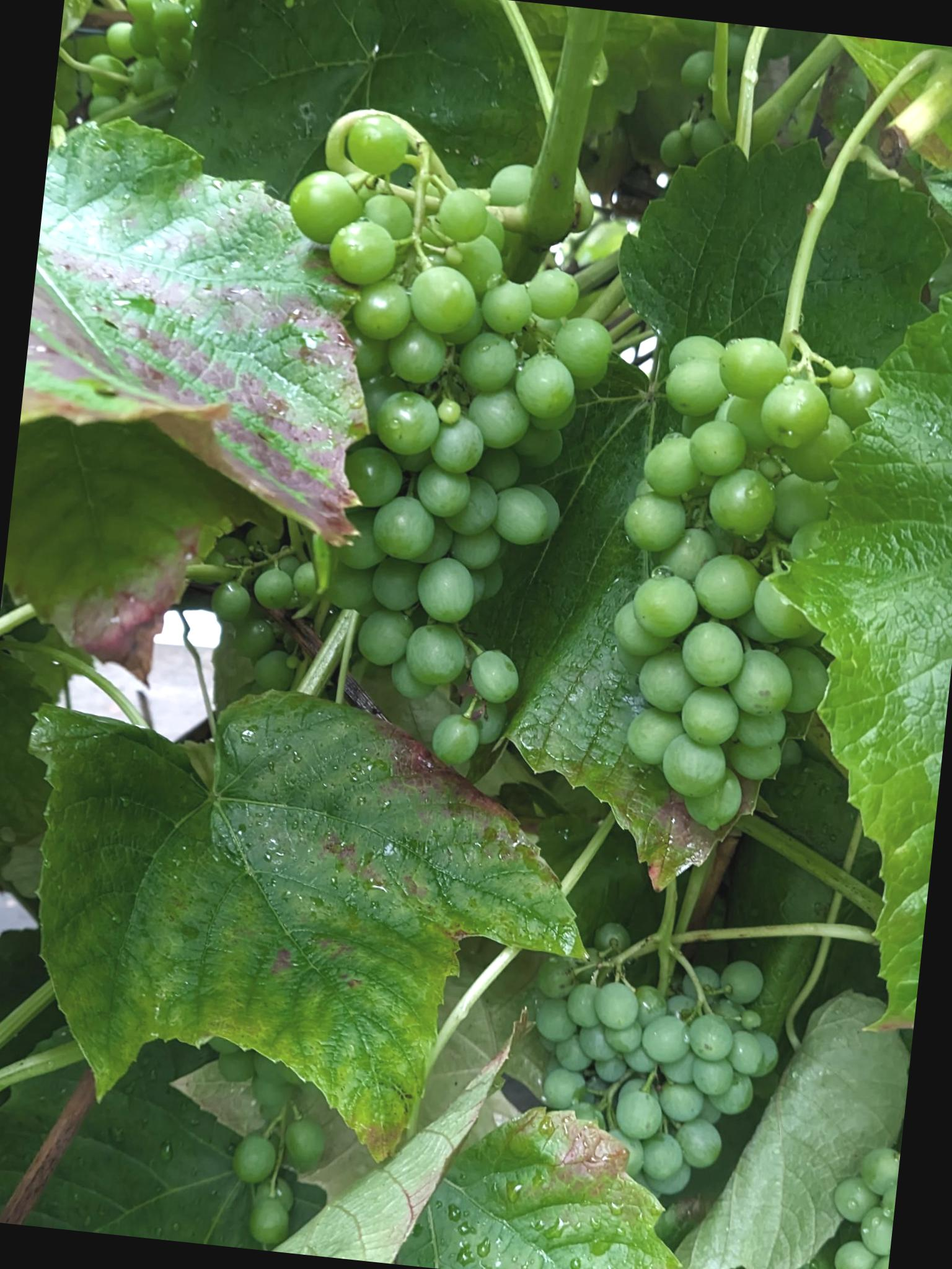Grape Unripe: (232, 104, 636, 785), (588, 324, 889, 841), (517, 914, 796, 1214), (184, 1023, 333, 1250), (659, 19, 812, 179), (192, 516, 328, 689), (86, 0, 205, 138), (828, 1138, 901, 1269)
